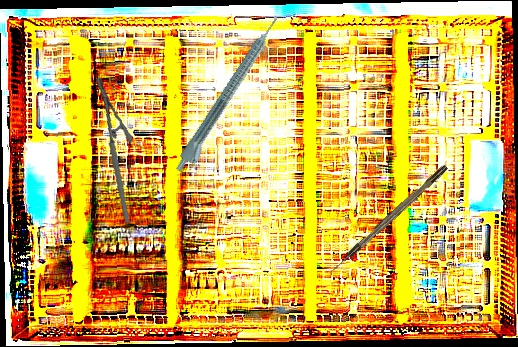Handpiece: (172, 13, 289, 179)
Hook Surgical: (326, 164, 450, 276)
Needle Holder: (75, 75, 150, 225)
